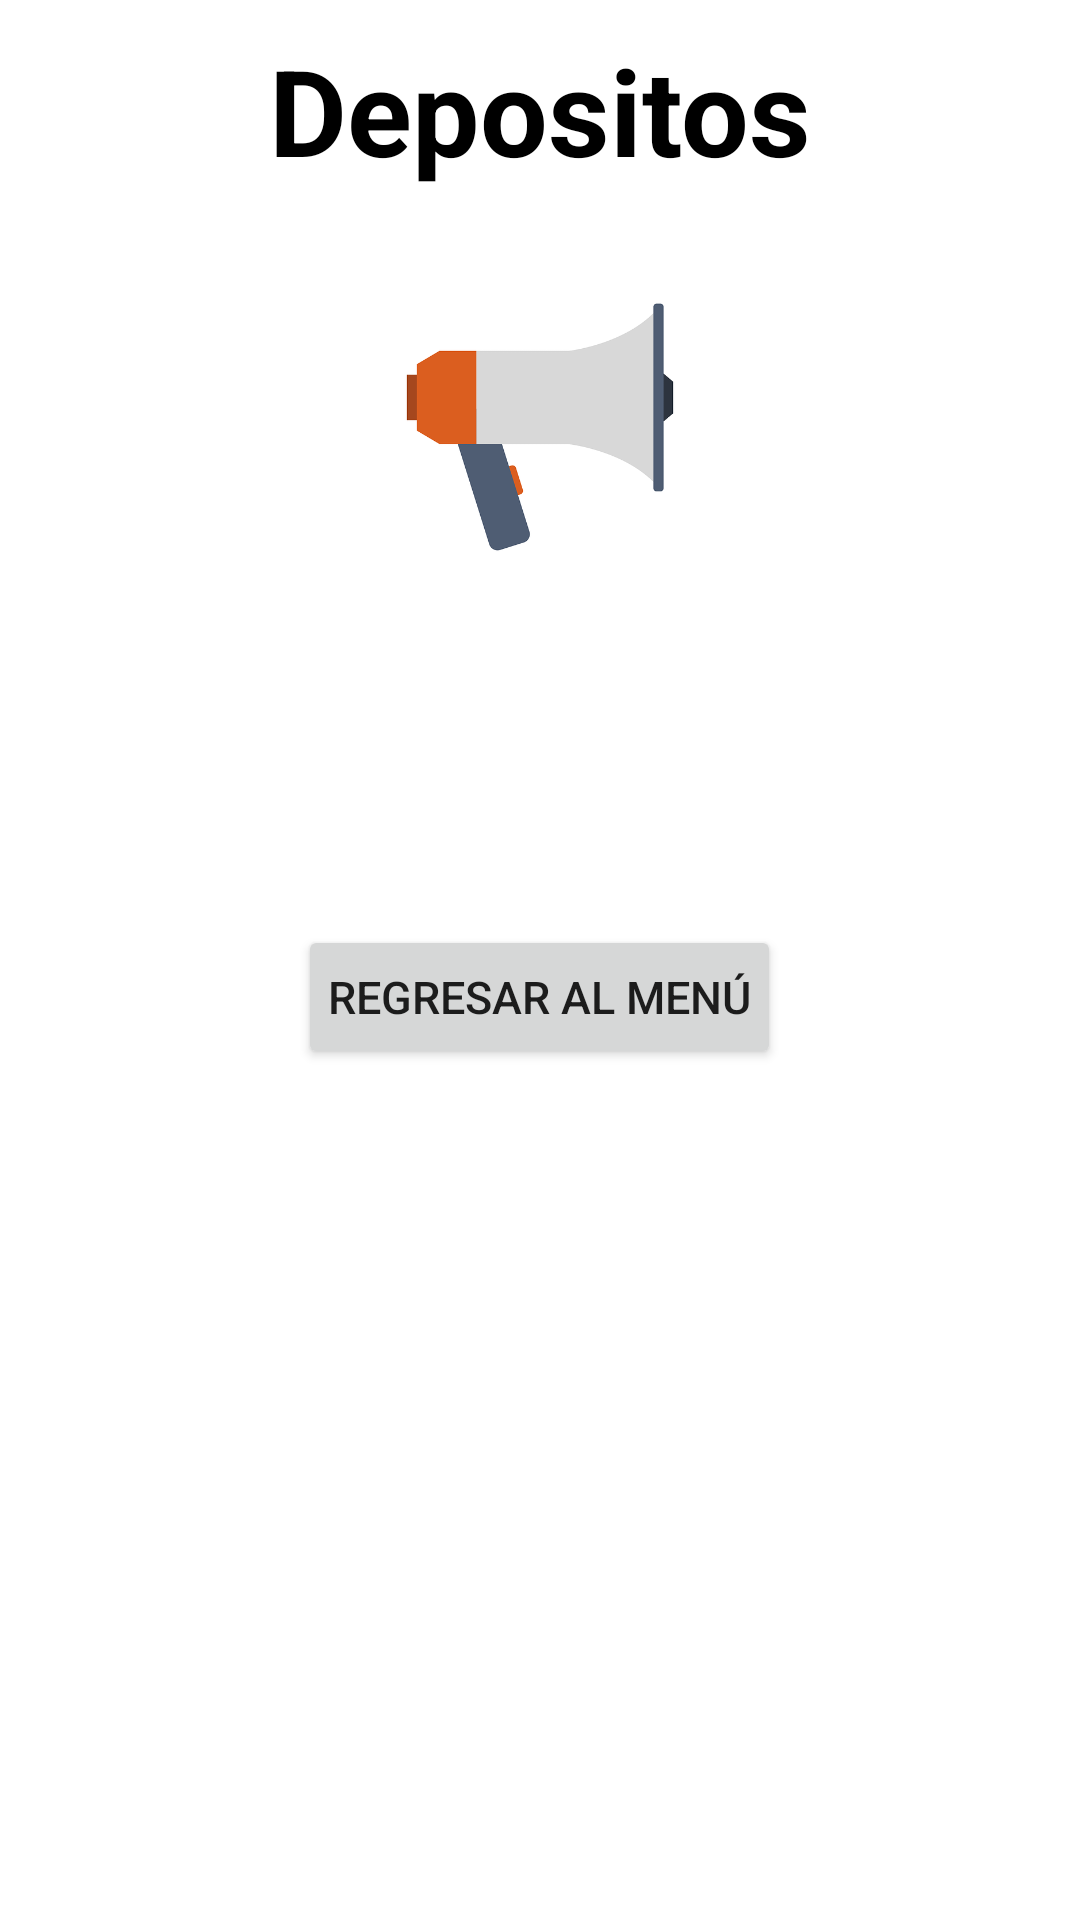

Point at icon controls on the screen. Image size 1080×1920, points as point (x, y).
alerta: point (540, 427)
